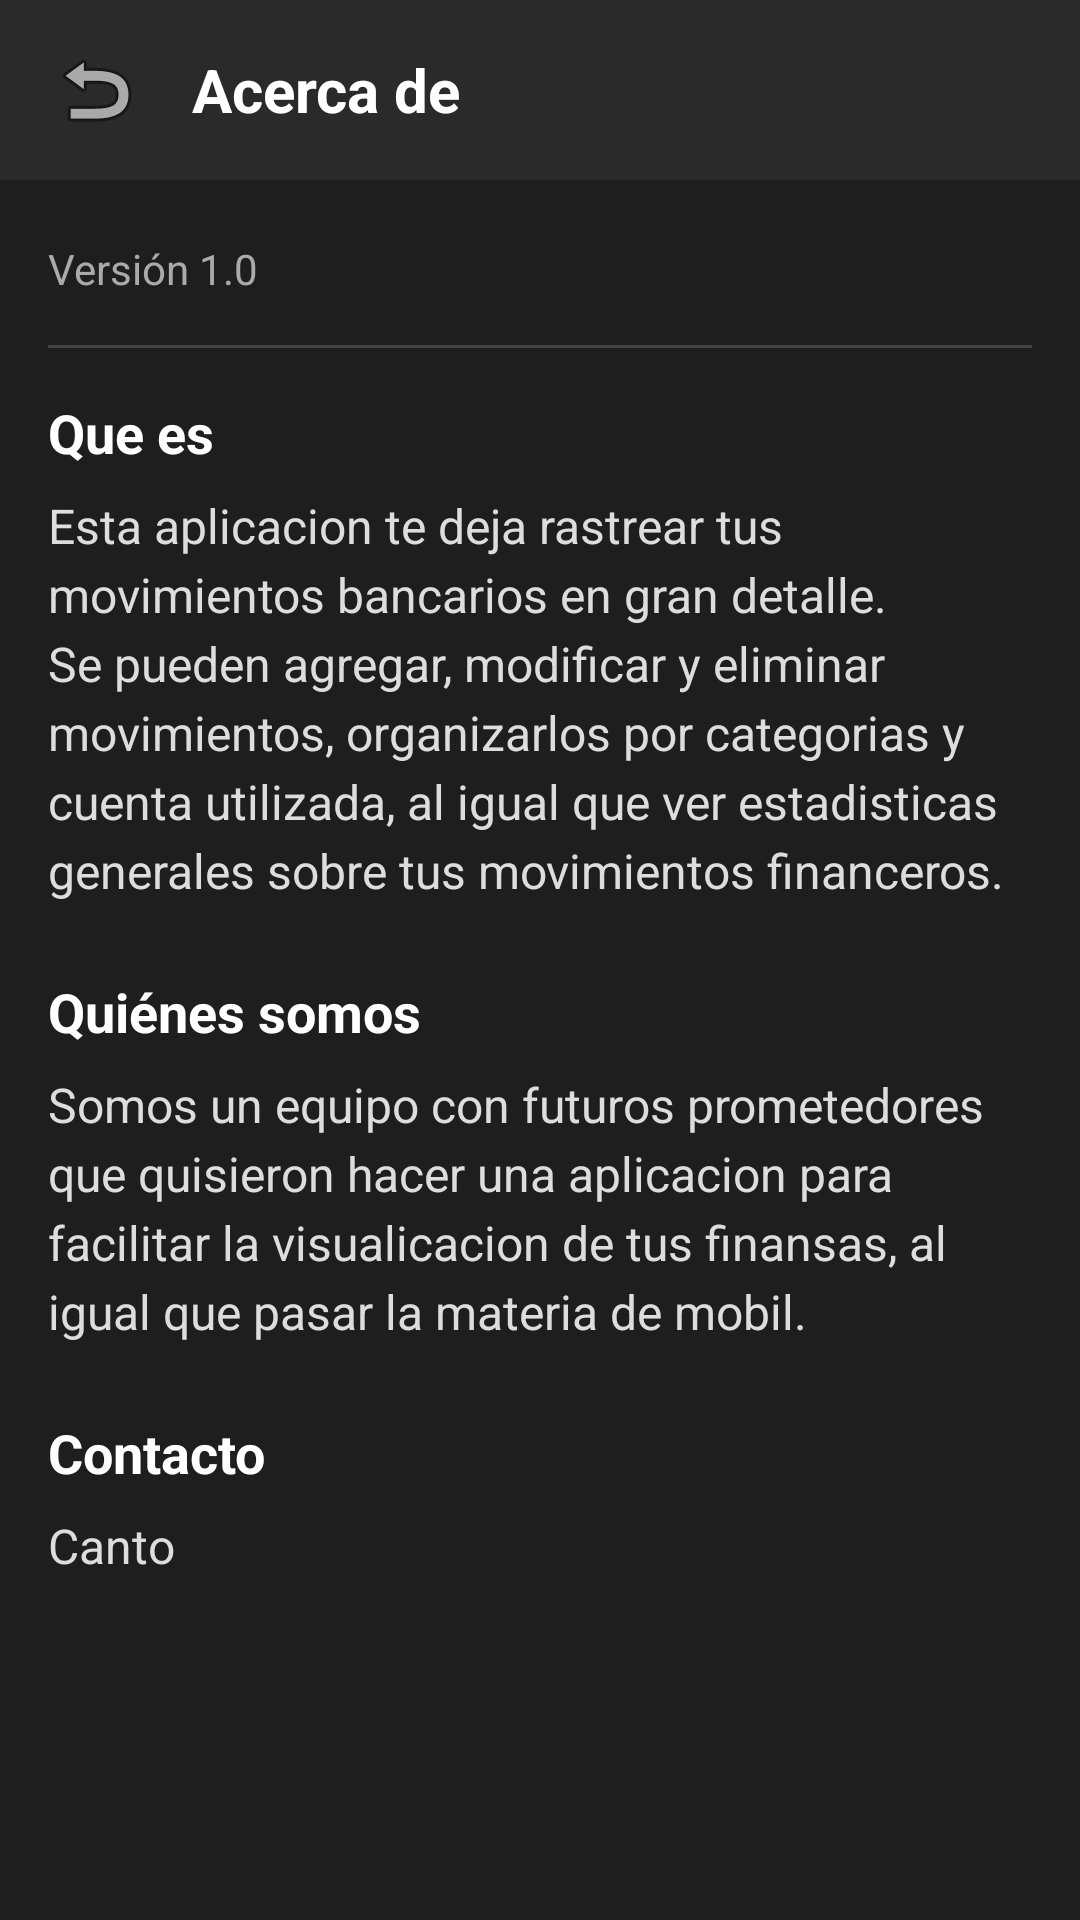

Screen size 1080*1920. Icon name, then its box in pixels as Rect(x1, y1, x2, y2):
backbutton: Rect(66, 63, 129, 119)
